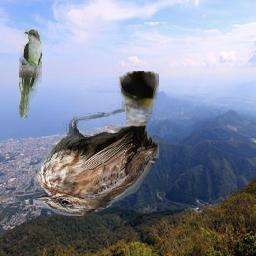Cuckoo: (20, 30, 43, 119)
Sparrow: (33, 72, 159, 217)
